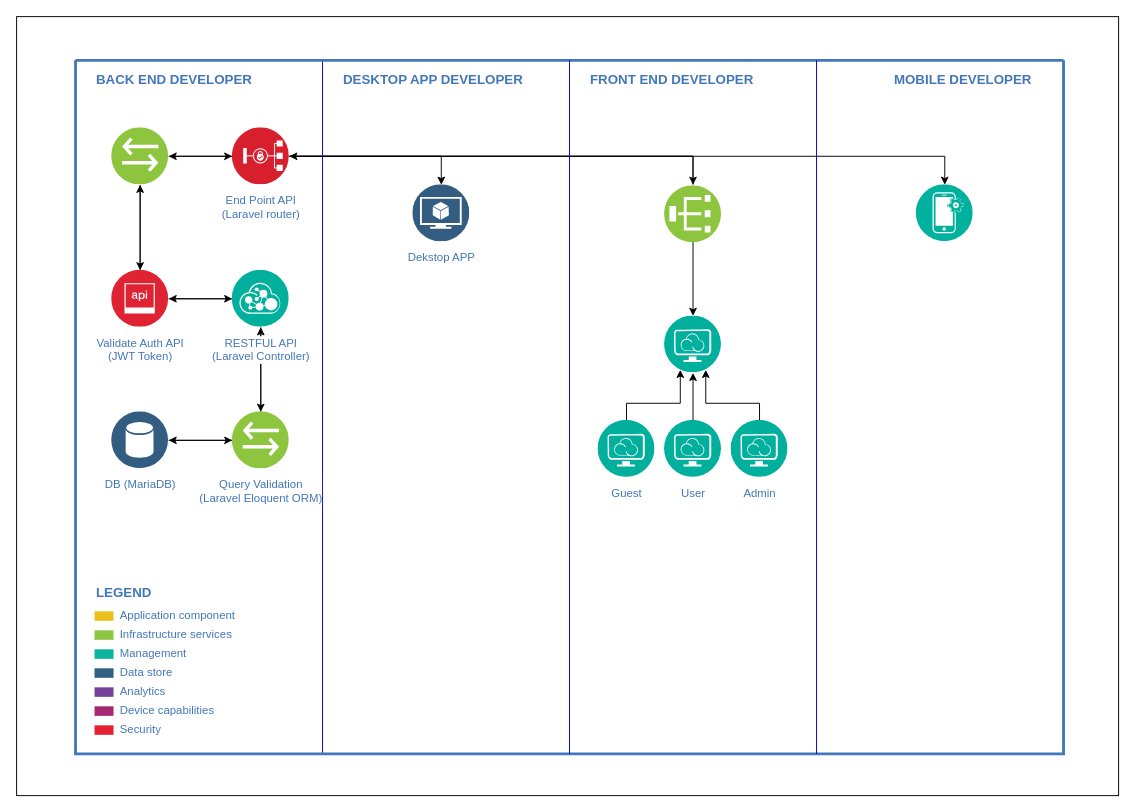
The diagram is 1135 pixels wide and 812 high, and some of its shapes have lost their labels. Here are the shapes that lost their labels. From the top down, the box of each, then its label:
(111, 127, 168, 184): Request validate (Laravel Middleware)
(664, 184, 721, 241): Content Management (Vue router)
(916, 184, 973, 241): Mobile APP
(664, 315, 721, 372): Web APP
